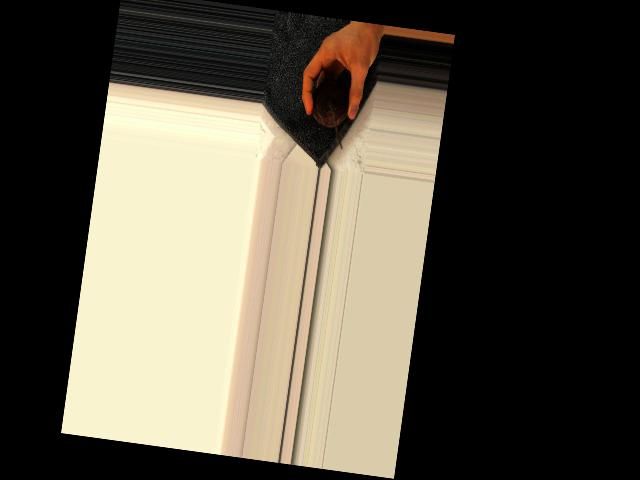beet: (306, 77, 352, 149)
